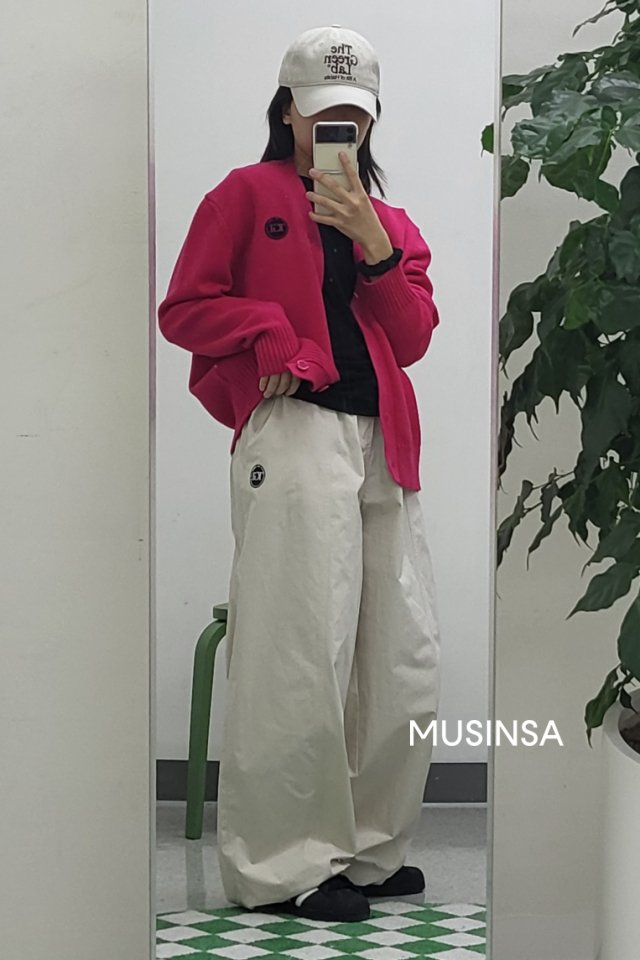Accessories: (355, 242, 413, 274)
Cap: (271, 21, 390, 121)
Outer: (158, 154, 445, 476)
Pants: (216, 380, 434, 876)
Shoes: (268, 851, 442, 933)
